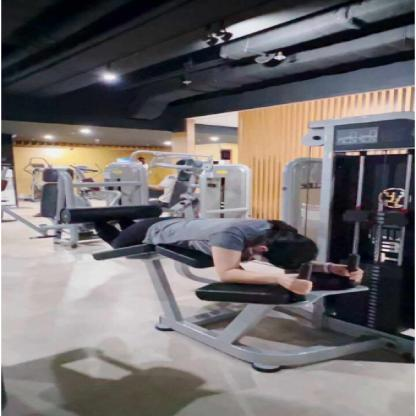reg curl machine: (49, 104, 416, 375)
